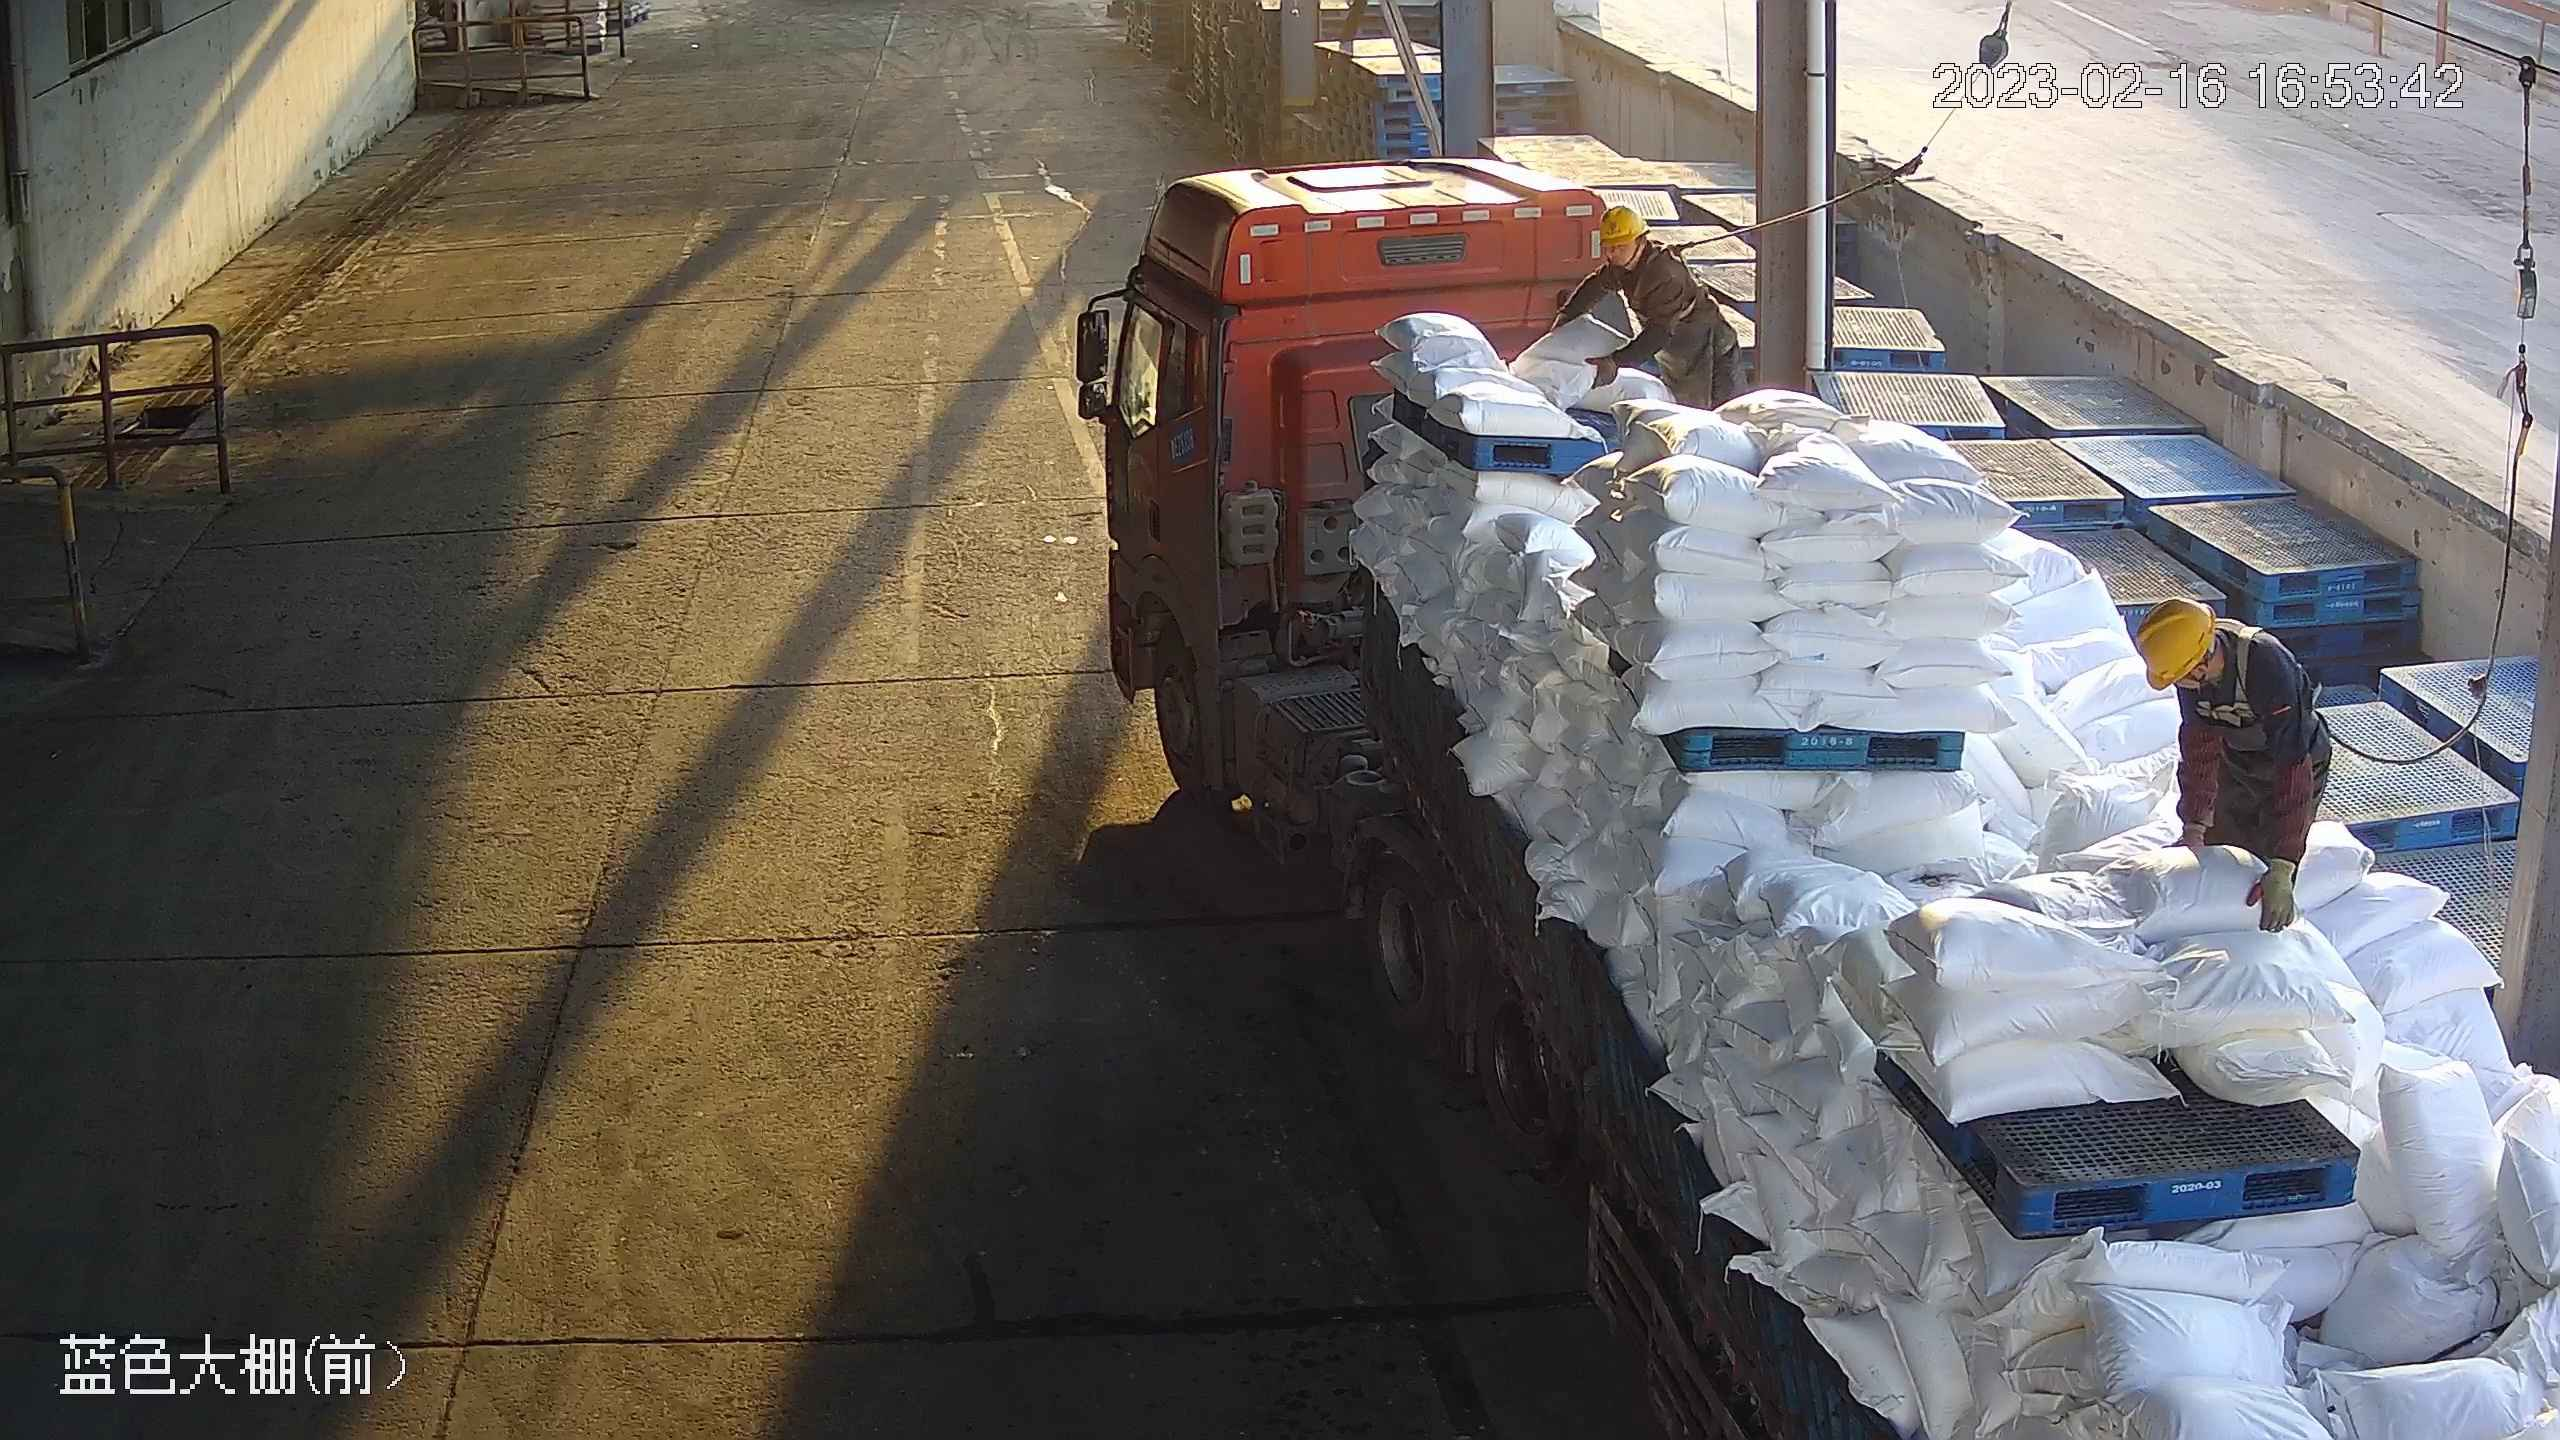belt: (2197, 636, 2269, 740), (1622, 275, 1701, 330)
head: (2131, 598, 2285, 699), (1586, 208, 1692, 301)
helmet: (2127, 595, 2220, 688), (1592, 206, 1651, 244)
people: (2131, 596, 2338, 936)
truck: (1067, 158, 2560, 1440)
